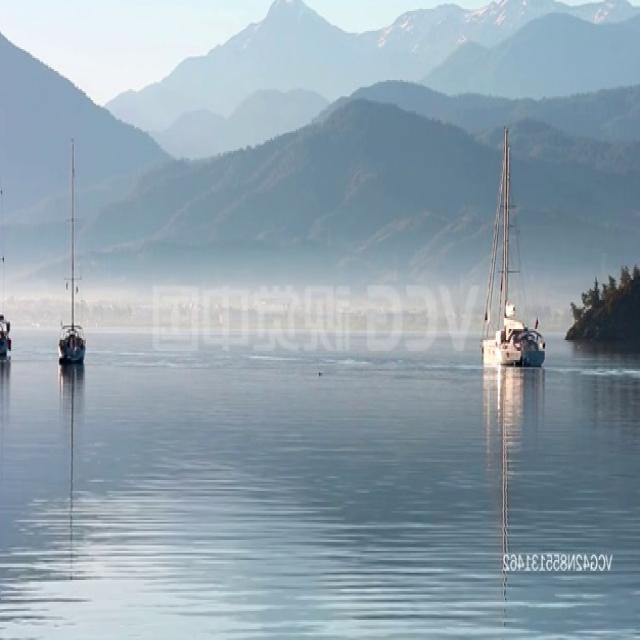sailboat: (480, 123, 547, 371), (56, 135, 87, 365), (0, 107, 16, 363)
